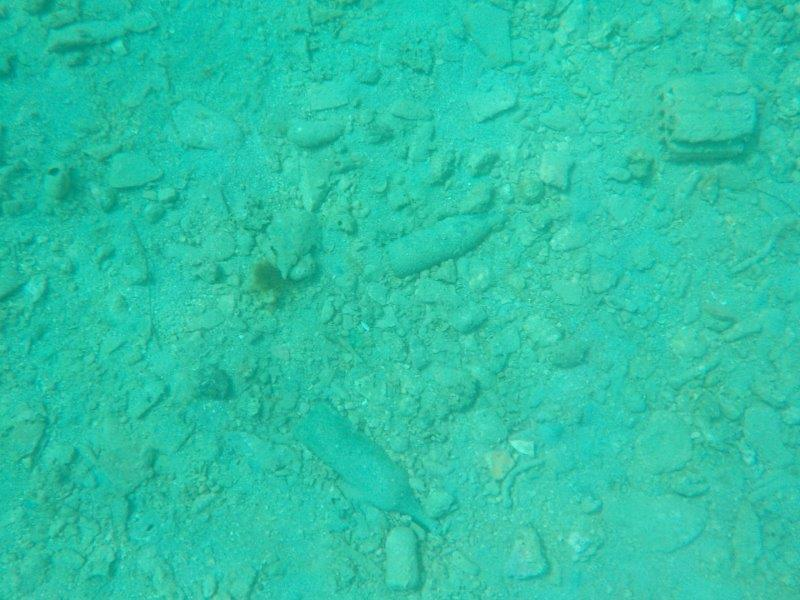bottle: (289, 397, 450, 535), (382, 204, 516, 277)
